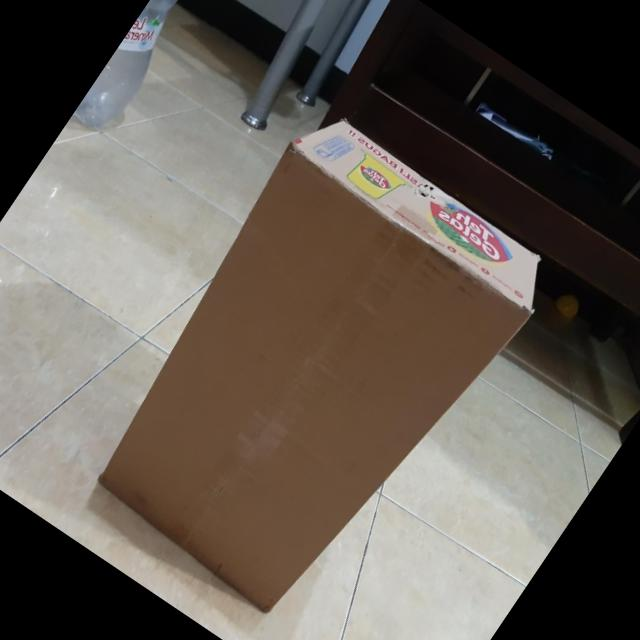Kardus: (63, 98, 566, 640)
